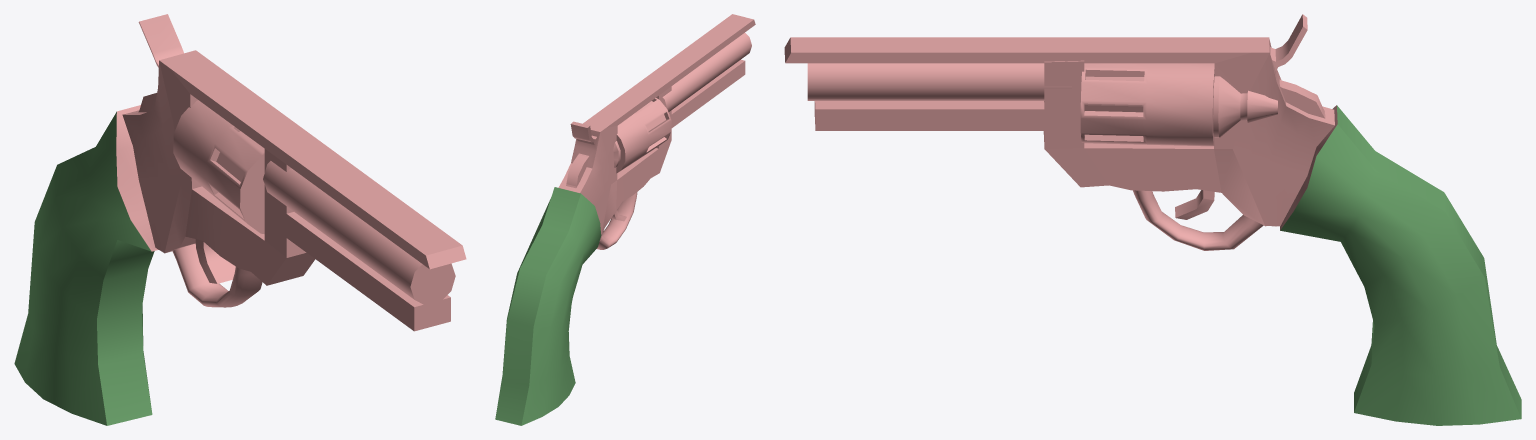
Rendered from gun-14045.fbx.
The picture shows the model from 3 angles, left to right: view 1: azimuth 30°, elevation 25°; view 2: azimuth 150°, elevation 25°; view 3: azimuth 270°, elevation 25°; orthographic projection. The views are drawn at different scales.
Parts seen in each view (by area): view 1: pCube1, pCylinder2, pCylinder1, pTorus1; view 2: pCube1, pCylinder1, pCylinder2, pTorus1; view 3: pCube1, pCylinder1, pCylinder2, pTorus1.
Boxes of the visible parts, <box> form: pCube1: <box>14,14,466,425</box>; pCylinder2: <box>263,161,455,305</box>; pCylinder1: <box>173,100,264,233</box>; pTorus1: <box>172,243,262,307</box>; pCube1: <box>495,14,755,425</box>; pCylinder1: <box>613,98,671,173</box>; pCylinder2: <box>662,33,751,112</box>; pTorus1: <box>597,192,637,249</box>; pCube1: <box>784,14,1521,425</box>; pCylinder1: <box>1080,63,1277,146</box>; pCylinder2: <box>807,63,1071,100</box>; pTorus1: <box>1133,190,1263,250</box>.
Size of the model in its own units: 17.98 by 80.31 by 139.
